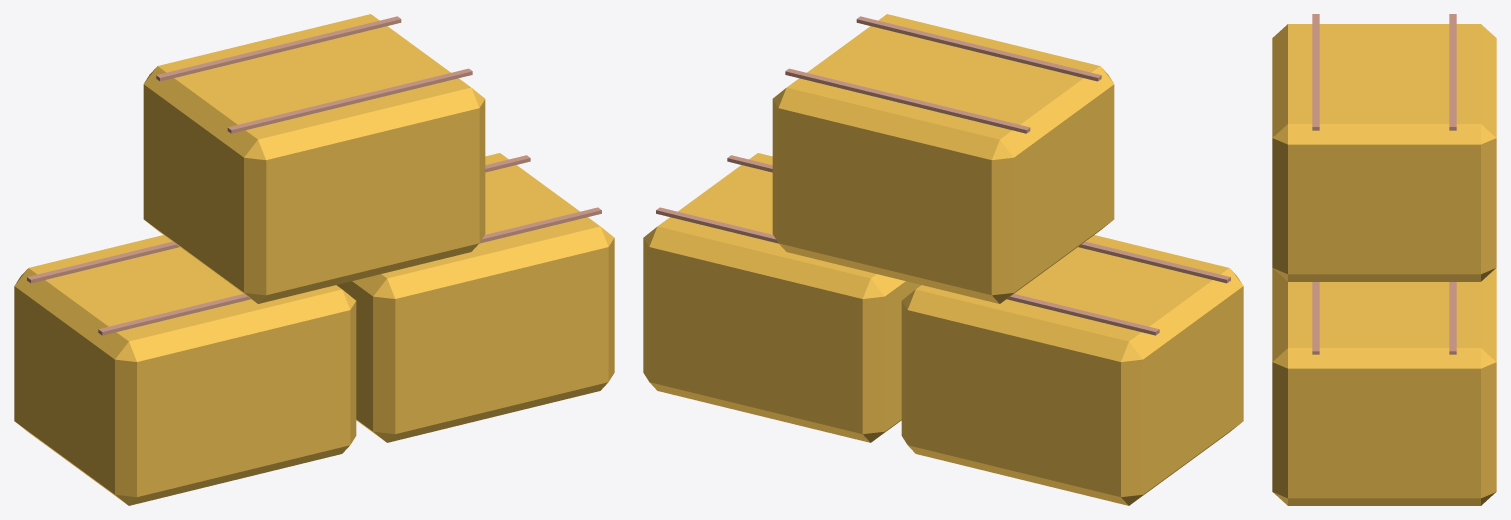
3 views of the same model, side by side, from view 1: azimuth 30°, elevation 25°; view 2: azimuth 150°, elevation 25°; view 3: azimuth 270°, elevation 25° (orthographic). The views are drawn at different scales.
Parts seen in each view (by area): view 1: Hay bale.002, Hay bale, Hay bale.001, Bale twine.004, Bale twine.005, Bale twine, Bale twine.001, Bale twine.002; view 2: Hay bale.002, Hay bale, Hay bale.001, Bale twine.004, Bale twine.005, Bale twine, Bale twine.001, Bale twine.003; view 3: Hay bale.002, Hay bale.001, Bale twine.004, Bale twine.005, Bale twine.002, Bale twine.003.
Boxes of the visible parts, x1,y1,x2,y2 form: Hay bale.002: (143,14,485,303); Hay bale: (14,235,356,505); Hay bale.001: (336,153,614,442); Bale twine.004: (227,68,472,133); Bale twine.005: (156,16,401,81); Bale twine: (98,294,250,335); Bale twine.001: (27,241,179,283); Bale twine.002: (479,207,601,243); Hay bale.002: (772,14,1114,303); Hay bale: (901,235,1243,505); Hay bale.001: (643,153,921,442); Bale twine.004: (856,16,1101,81); Bale twine.005: (785,68,1030,133); Bale twine: (1078,241,1230,283); Bale twine.001: (1007,294,1159,335); Bale twine.003: (656,207,778,243); Hay bale.002: (1272,24,1496,281); Hay bale.001: (1272,268,1496,505); Bale twine.004: (1312,14,1319,130); Bale twine.005: (1449,14,1456,130); Bale twine.002: (1312,282,1319,354); Bale twine.003: (1449,282,1456,354).
Size of the model in its own units: 89 by 57.6 by 36.
